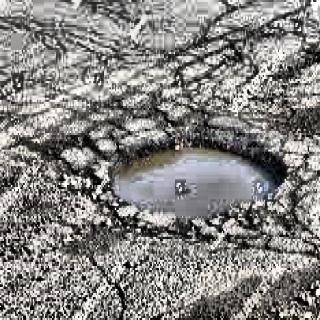alligator-crack: (137, 52, 320, 116), (41, 117, 99, 191)
pothole: (103, 123, 289, 234)
